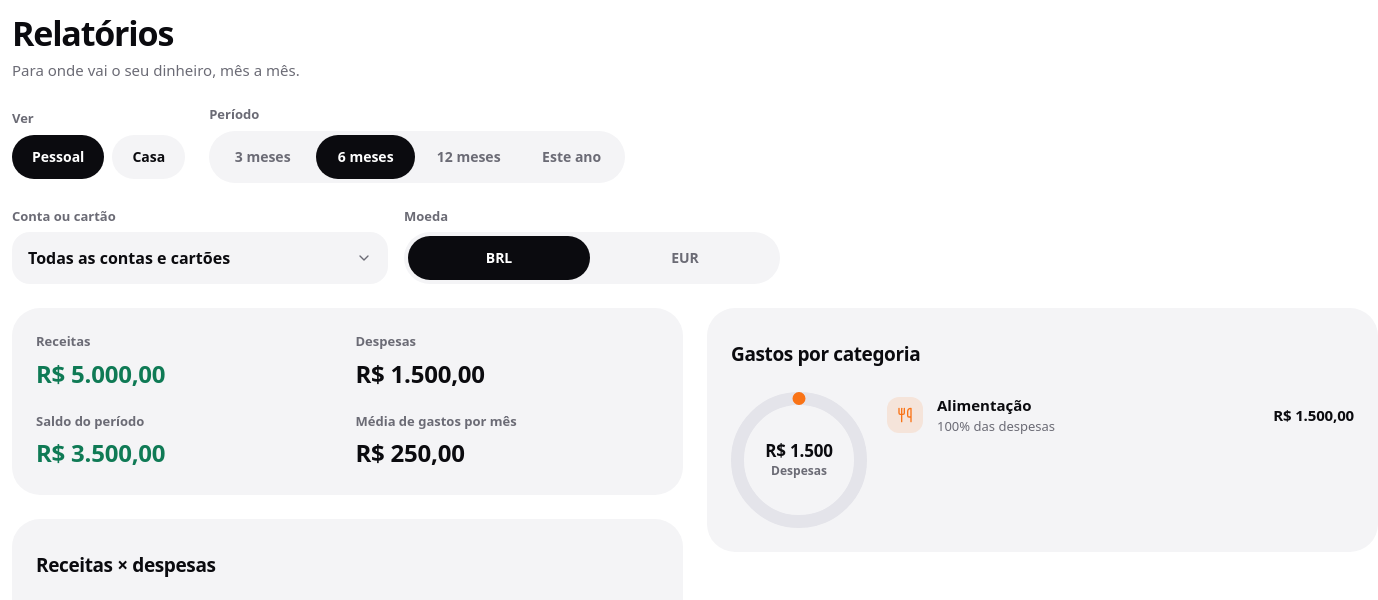
Scenario: pessoal: resumo na moeda de maior despesa, gráfico e filtro por conta ou cartão
Check: the text "Saldo do período" is shown, box 36,412 -> 144,430
Check: the text "R$ 3.500,00" is shown, box 36,435 -> 165,471
Select "Visa" in the dropdown labelled "Conta ou cartão" at (200, 258), box 12,232 -> 388,284
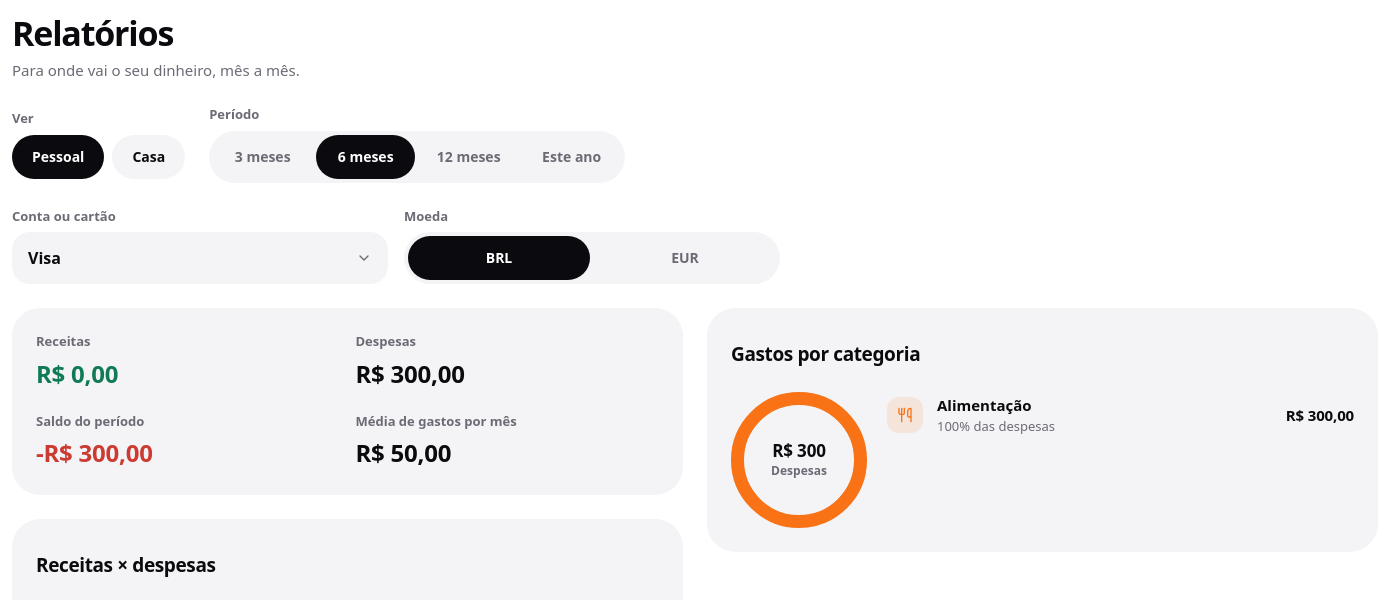
Check: the 1st text "R$ 300,00" is shown, box 356,356 -> 465,392
